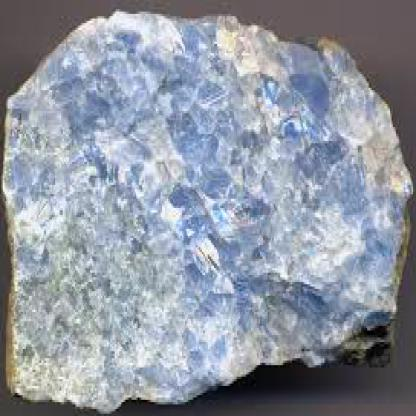Metamorphic_Marble: (3, 4, 415, 415)
